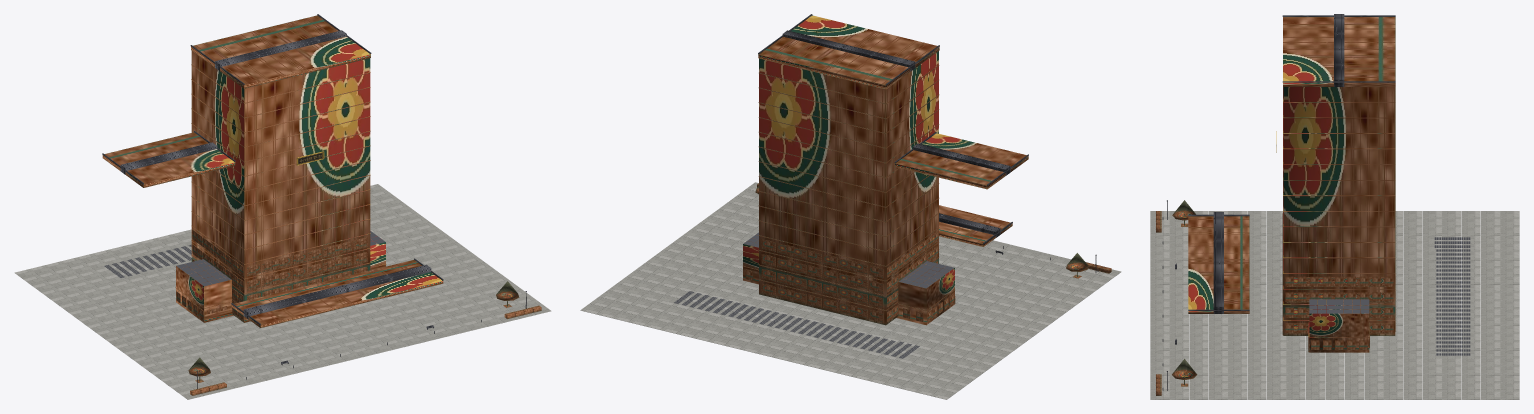
The picture shows the model from 3 angles, left to right: view 1: azimuth 30°, elevation 25°; view 2: azimuth 150°, elevation 25°; view 3: azimuth 270°, elevation 25°; orthographic projection. The views are drawn at different scales.
Visible parts, largest first — view 1: 11680_01_05787_049_02__mass_body_facade, 11680_01_05787_049_01__plinth_ground_base, 11680_01_05787_049_03__roof_metal_ornament, 11680_01_05787_049_03__roof_deck_structure, 11680_01_05787_049_05__window_sash_glass, 11680_01_05787_049_06__landscape_greenery; view 2: 11680_01_05787_049_02__mass_body_facade, 11680_01_05787_049_01__plinth_ground_base, 11680_01_05787_049_03__roof_deck_structure, 11680_01_05787_049_03__roof_metal_ornament, 11680_01_05787_049_06__landscape_greenery; view 3: 11680_01_05787_049_01__plinth_ground_base, 11680_01_05787_049_02__mass_body_facade, 11680_01_05787_049_03__roof_deck_structure, 11680_01_05787_049_03__roof_metal_ornament, 11680_01_05787_049_06__landscape_greenery.
Boxes of the visible parts, x1,y1,x2,y2 form: 11680_01_05787_049_02__mass_body_facade: (102, 15, 443, 327); 11680_01_05787_049_01__plinth_ground_base: (14, 184, 551, 399); 11680_01_05787_049_03__roof_metal_ornament: (102, 14, 443, 325); 11680_01_05787_049_03__roof_deck_structure: (104, 231, 385, 286); 11680_01_05787_049_05__window_sash_glass: (212, 237, 366, 313); 11680_01_05787_049_06__landscape_greenery: (188, 281, 541, 395); 11680_01_05787_049_02__mass_body_facade: (743, 15, 1028, 325); 11680_01_05787_049_01__plinth_ground_base: (580, 182, 1121, 399); 11680_01_05787_049_03__roof_deck_structure: (674, 232, 954, 358); 11680_01_05787_049_03__roof_metal_ornament: (758, 14, 1028, 244); 11680_01_05787_049_06__landscape_greenery: (755, 183, 1111, 278); 11680_01_05787_049_01__plinth_ground_base: (1150, 211, 1519, 399); 11680_01_05787_049_02__mass_body_facade: (1188, 17, 1395, 352); 11680_01_05787_049_03__roof_deck_structure: (1309, 237, 1470, 355); 11680_01_05787_049_03__roof_metal_ornament: (1188, 14, 1395, 313); 11680_01_05787_049_06__landscape_greenery: (1156, 200, 1197, 395).
Size of the model in its own units: 104 by 66.4 by 85.95.
7 materials, 7 textured.
